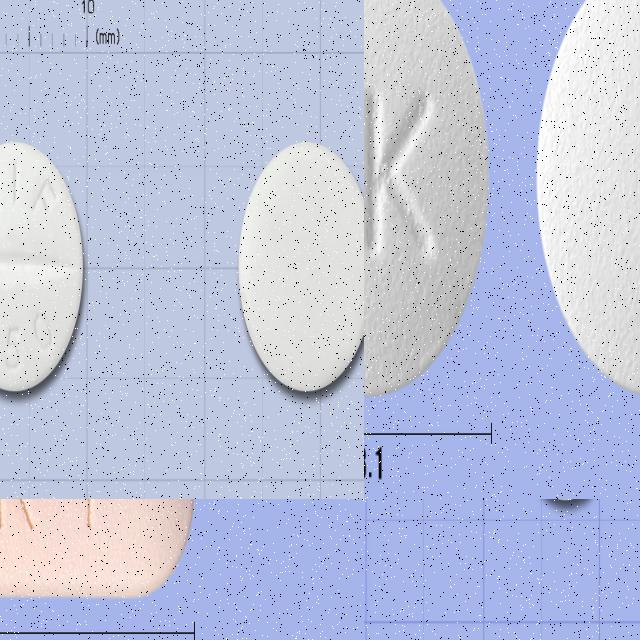Lesacra: (364, 0, 490, 397), (534, 0, 640, 394)
Levogun -250mg: (0, 499, 194, 601)
Sovaldi Tab: (237, 138, 364, 391), (0, 138, 84, 393)
